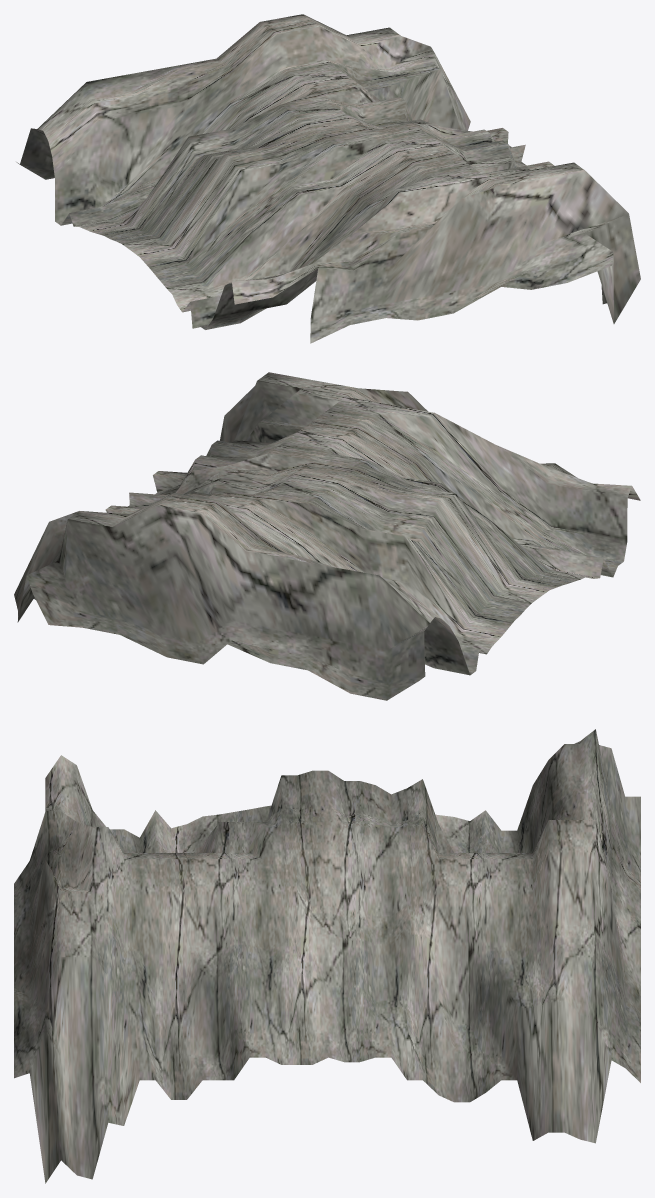
Rendered from DWARF_PALACE_OBJECT01.fbx.
3 views of the same model, one above another, from view 1: azimuth 30°, elevation 25°; view 2: azimuth 150°, elevation 25°; view 3: azimuth 270°, elevation 25° (orthographic). The views are drawn at different scales.
Visible parts, largest first — view 1: DWARF_PALACE_OBJECT01; view 2: DWARF_PALACE_OBJECT01; view 3: DWARF_PALACE_OBJECT01.
Boxes of the visible parts, left/top/right/bottom form: DWARF_PALACE_OBJECT01: left=16, top=14, right=640, bottom=343; DWARF_PALACE_OBJECT01: left=14, top=372, right=640, bottom=700; DWARF_PALACE_OBJECT01: left=14, top=729, right=640, bottom=1183.
Bounding box in the file's own units: 558680 × 239800 × 519419.
1 material, 1 textured.
